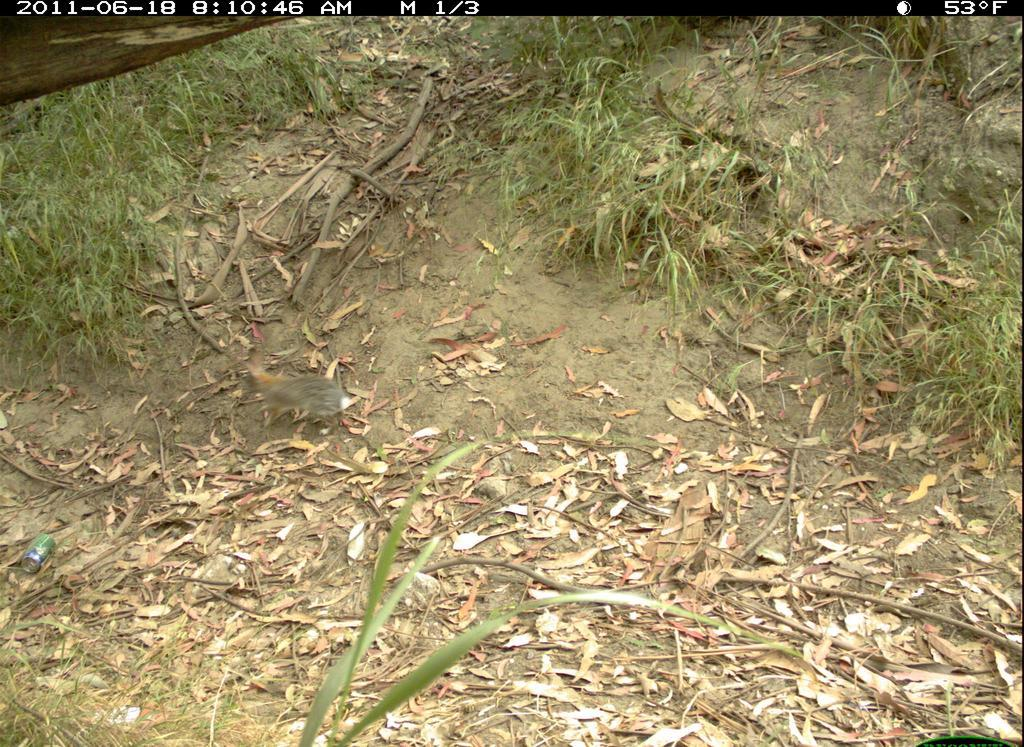rabbit: (227, 338, 359, 434)
